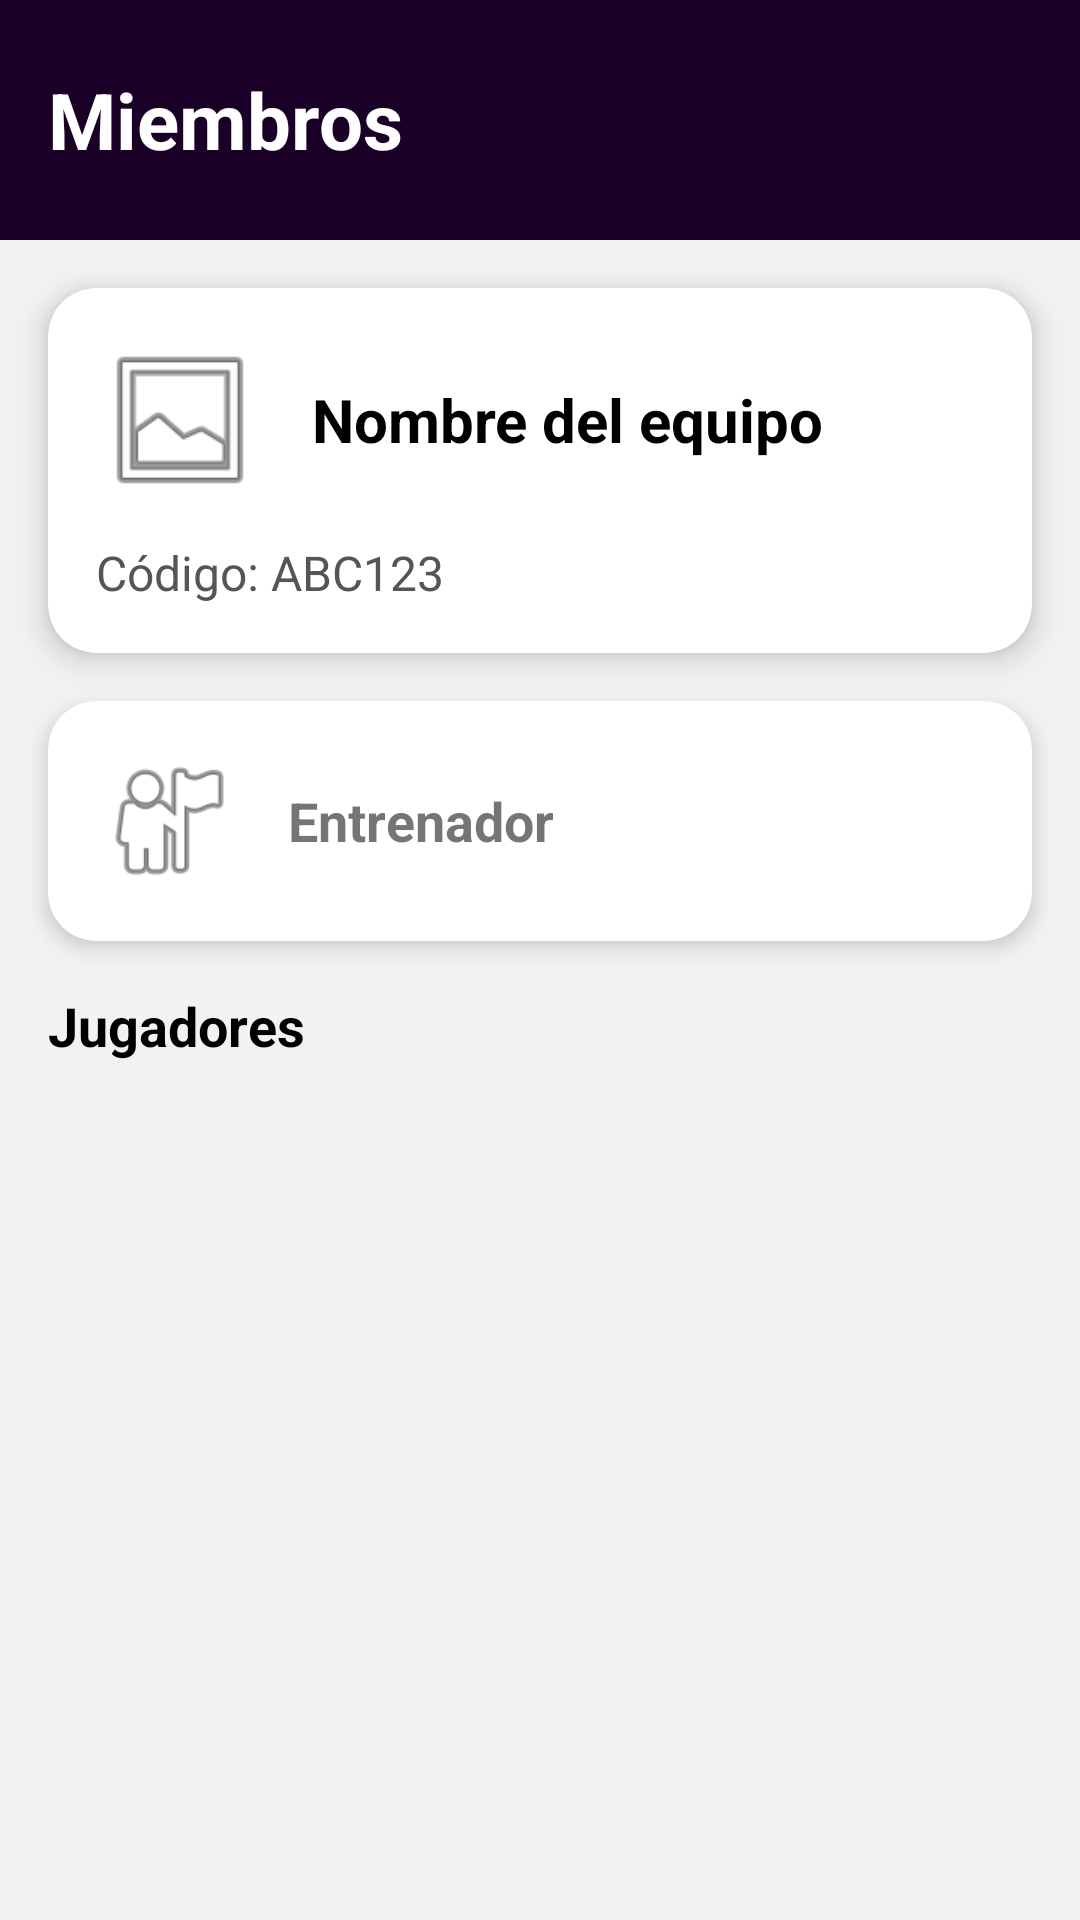

Icon click points for this 1080w x 1920h phone screenshot, format (x,y):
gallery: (180,420)
